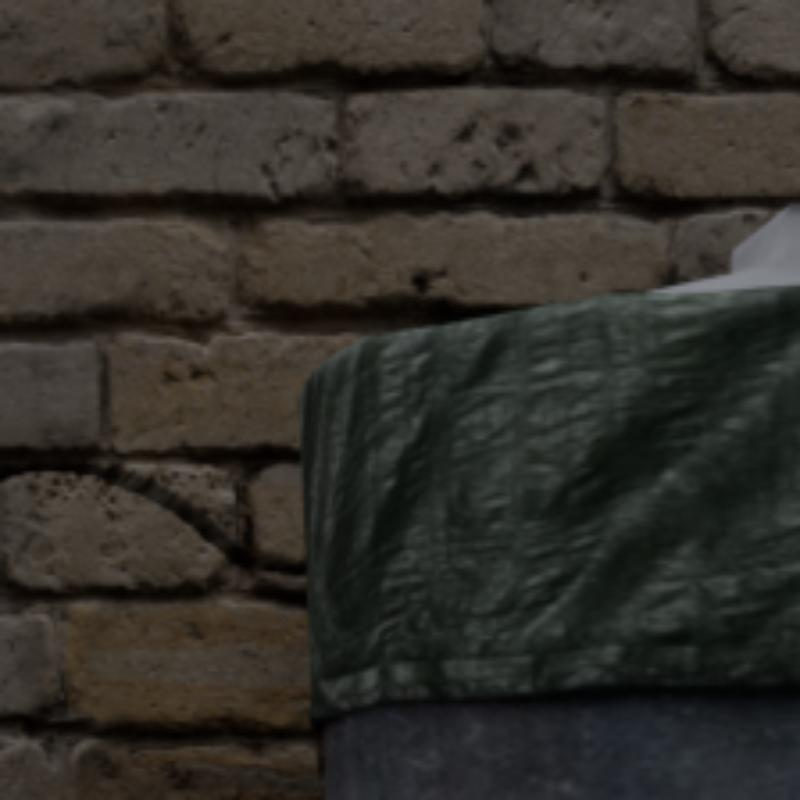crack: (0, 457, 304, 575)
